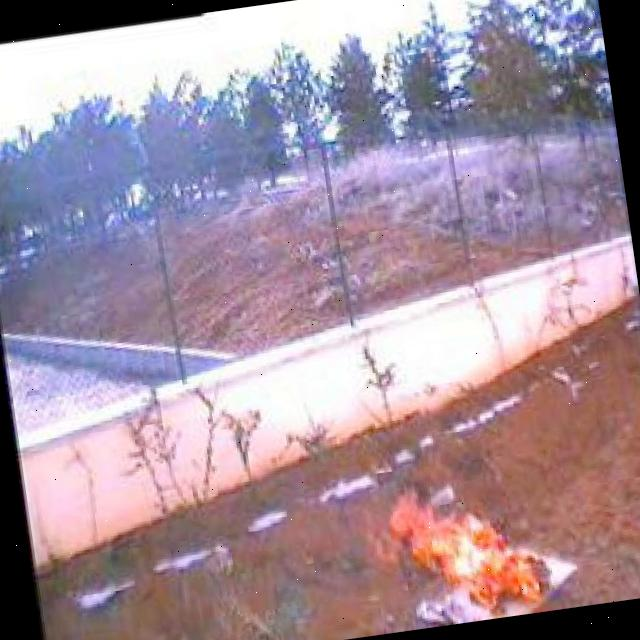fire: (364, 468, 562, 634)
